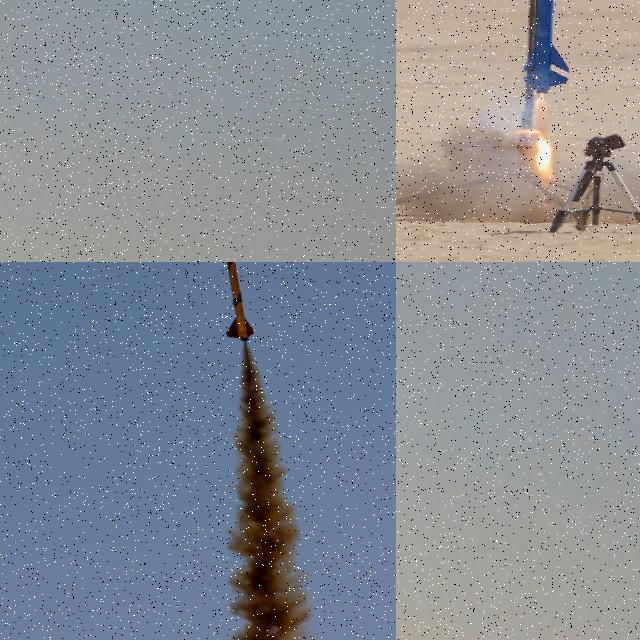Rocket: (521, 0, 570, 95), (214, 262, 256, 342), (639, 290, 640, 307)
